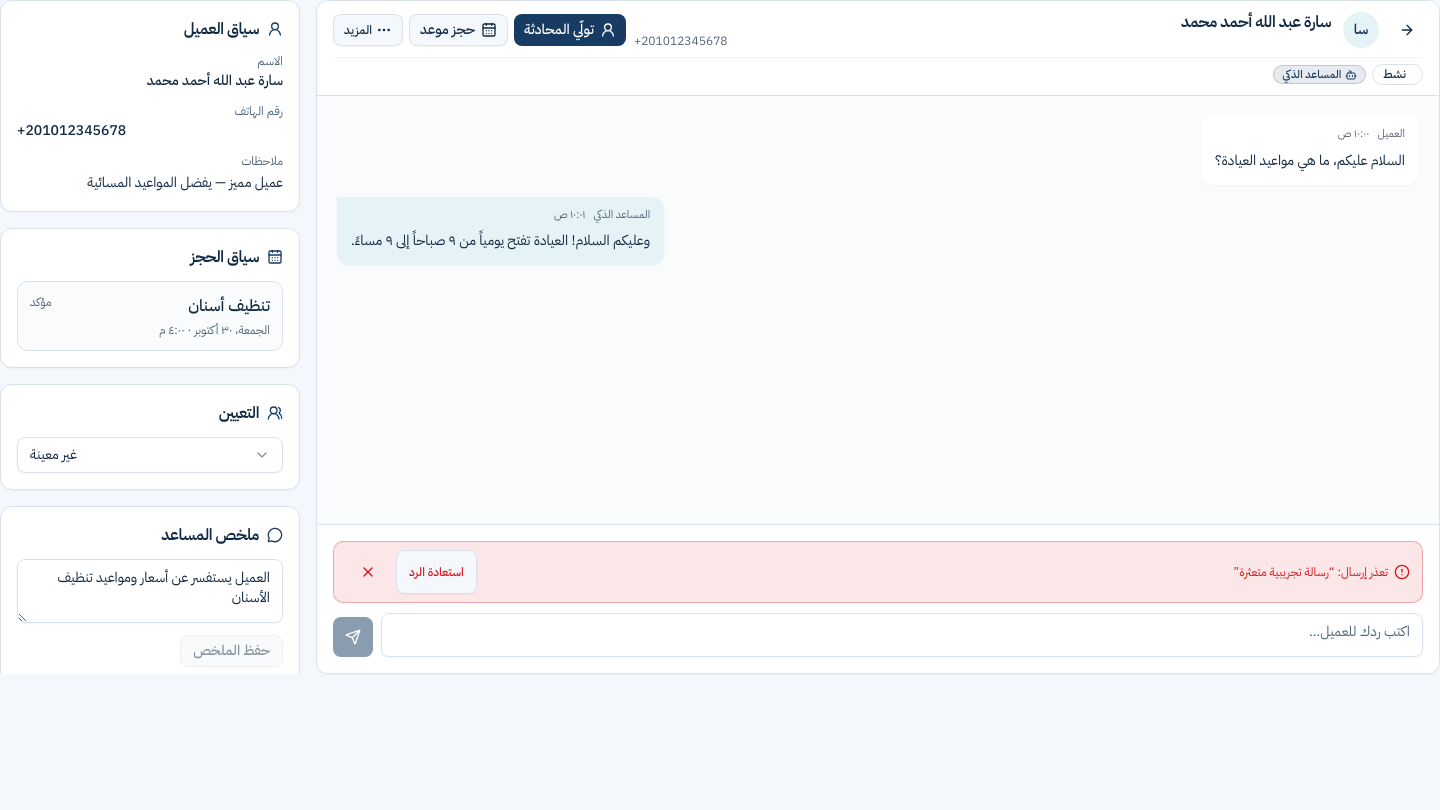
Test: ConversationDetail Component (CONV-UI-01) › Draft lifecycle and operator state isolation › Failed-reply recovery alert: Restore button restores failed text to textarea and storage
Expected: the message named "تنبيه تعذر إرسال الرد" is shown, top-left (333, 541), bottom-right (1423, 603)
Expected: the message named "تنبيه تعذر إرسال الرد" shows "رسالة تجريبية متعثرة", top-left (1239, 563), bottom-right (1329, 581)
What coordinates should you click on to do the following:
click the button "استعادة الرد"
I would click on:
 (436, 572)
Its box is top-left (396, 550), bottom-right (477, 594).
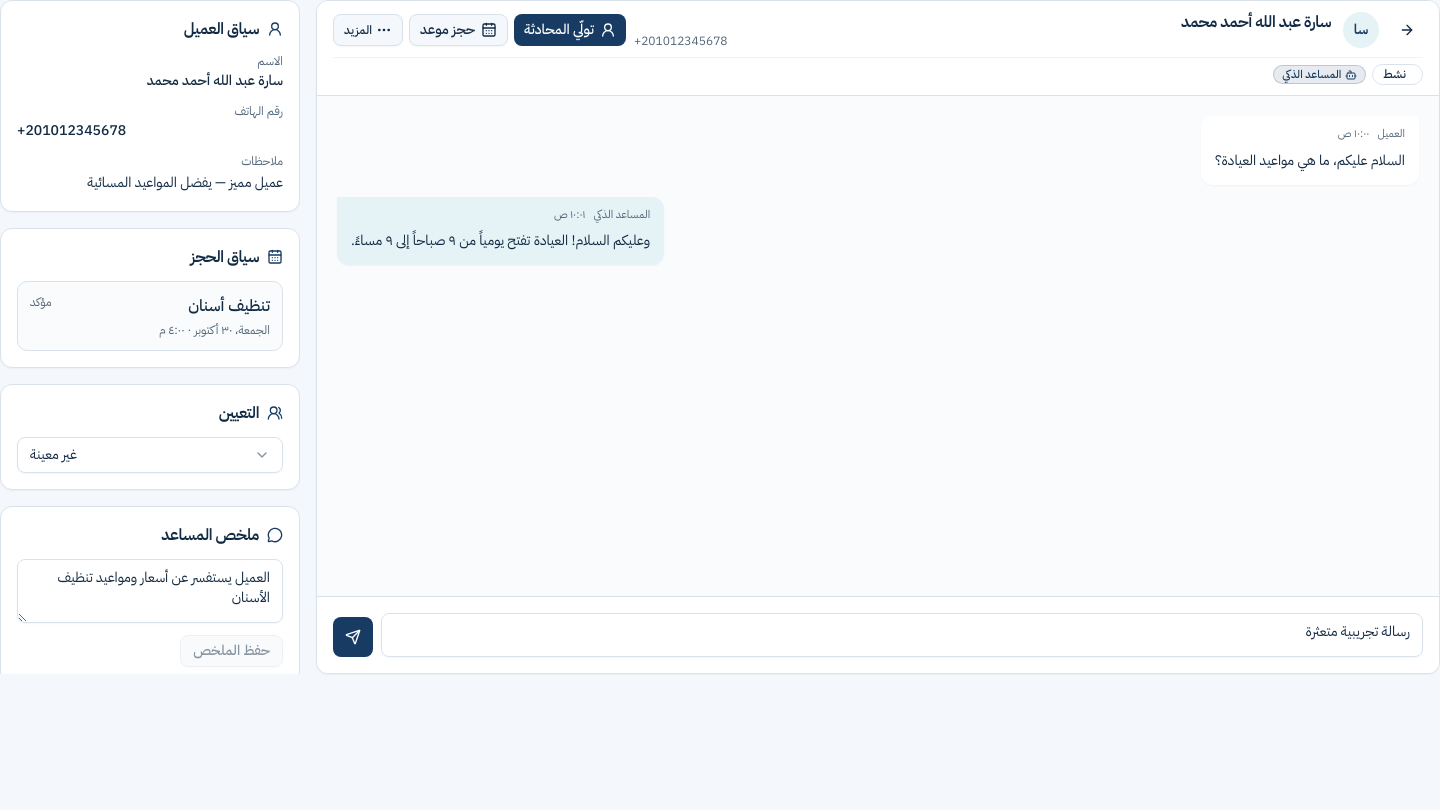
Expected: the text box named "رد على العميل" holds "رسالة تجريبية متعثرة", top-left (381, 613), bottom-right (1423, 657)
